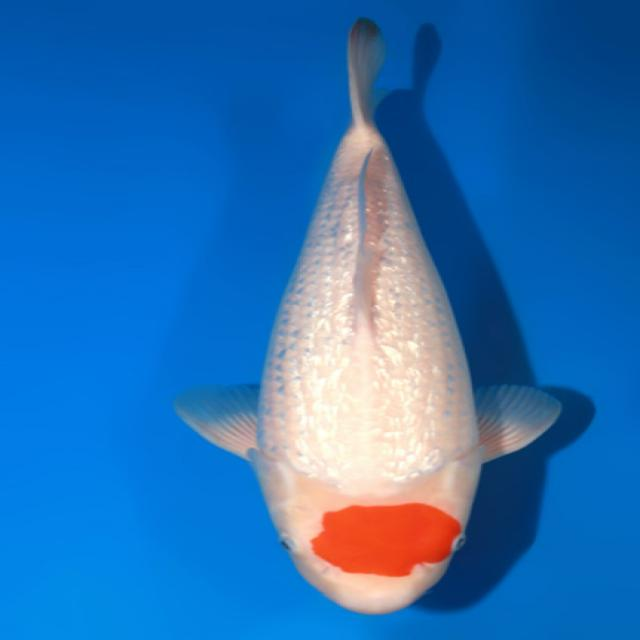Kohaku: (172, 16, 563, 615)
